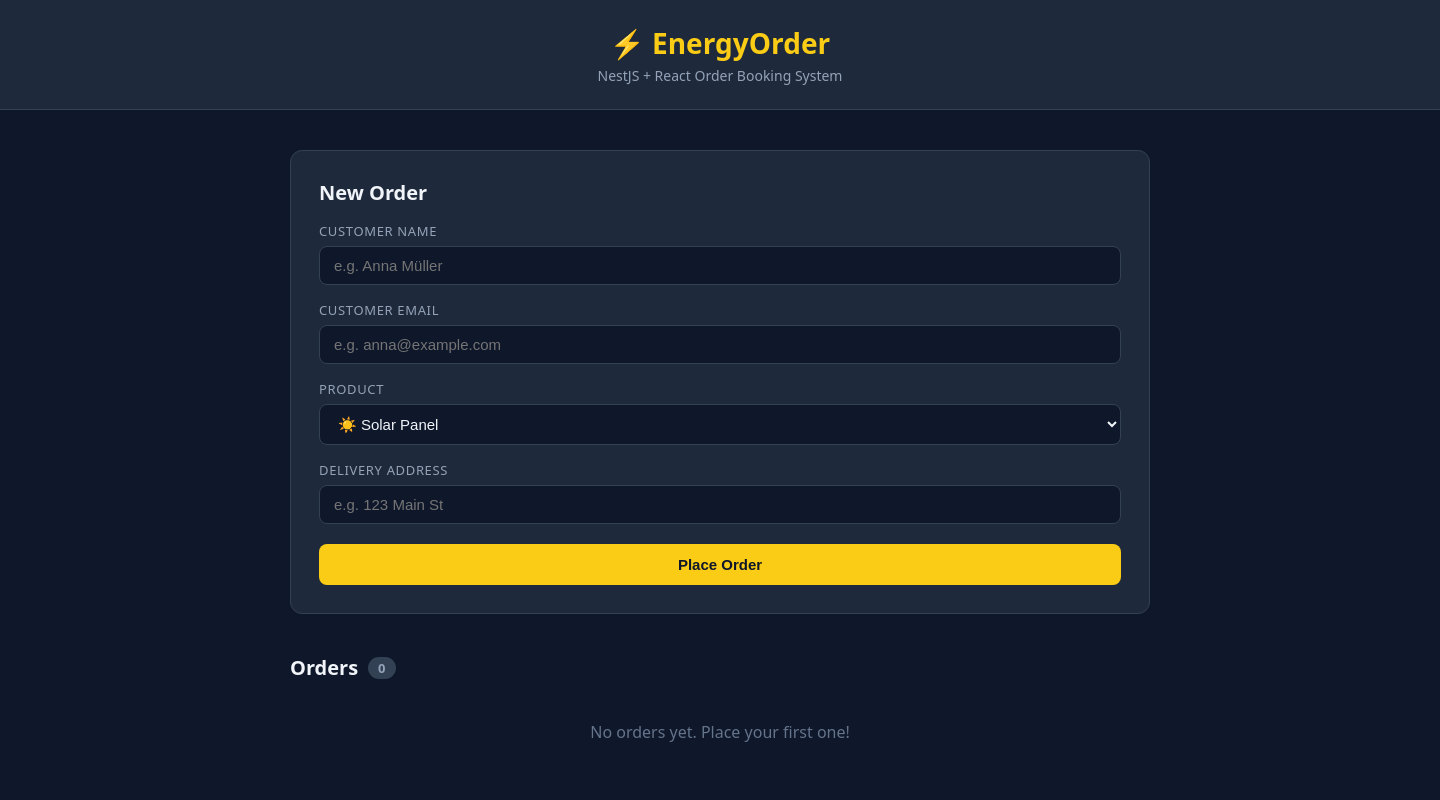
Form validation › shows error when submitting without a customer name
What coordinates should you click on to do the following:
click the button "Place Order"
I would click on:
 (720, 564)
Its box is [319,544,1121,585].
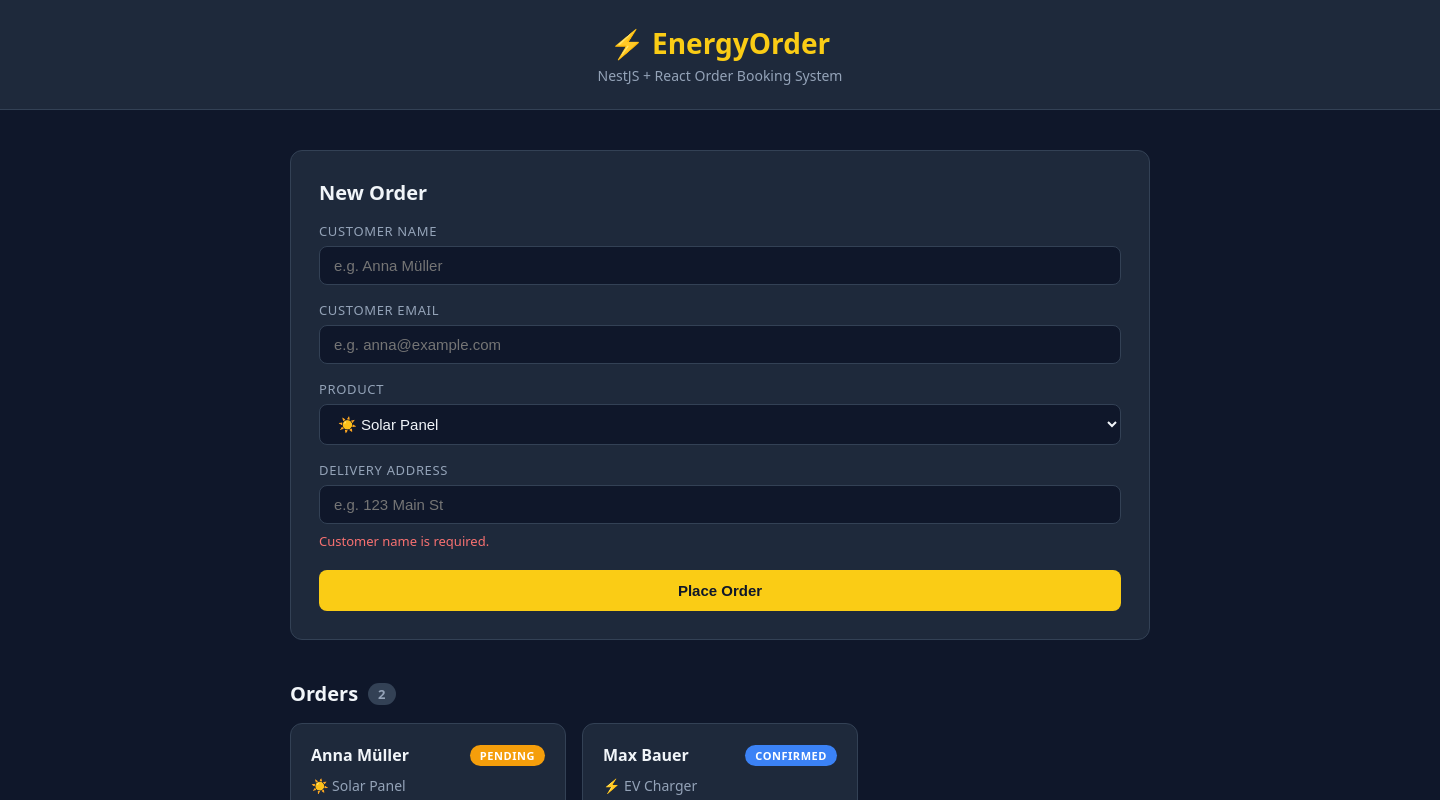
Result: the text "Customer name is required." is shown at [319,532,489,550]
